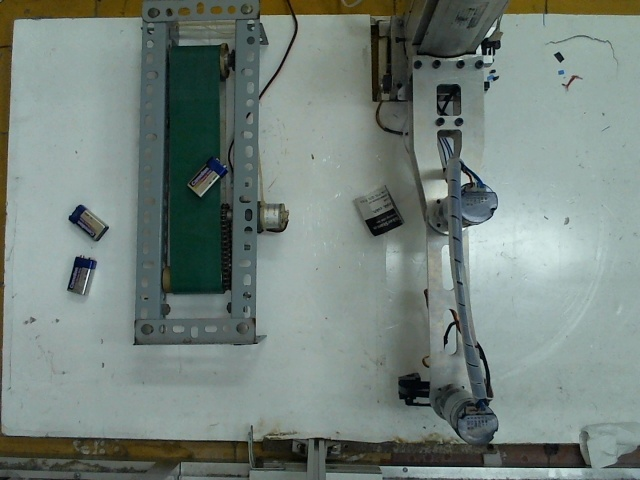battery: (58, 257, 105, 302), (185, 153, 232, 197), (66, 202, 113, 242)
